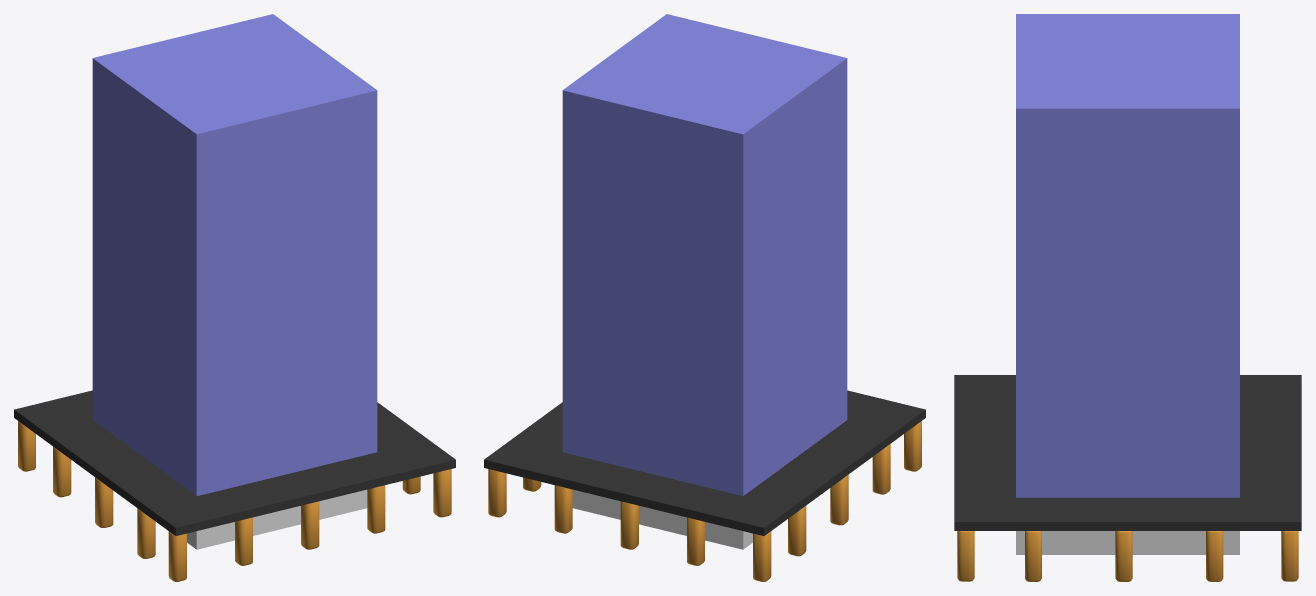
The model's file is building2.fbx.
3 views of the same model, side by side, from view 1: azimuth 30°, elevation 25°; view 2: azimuth 150°, elevation 25°; view 3: azimuth 270°, elevation 25° (orthographic). The views are drawn at different scales.
Visible parts, largest first — view 1: Cube.002; view 2: Cube.002; view 3: Cube.002.
Boxes of the visible parts, <box> form: Cube.002: <box>14,14,455,581</box>; Cube.002: <box>484,14,925,581</box>; Cube.002: <box>954,14,1301,581</box>.
Size of the model in its own units: 2000 by 2850 by 2000.
